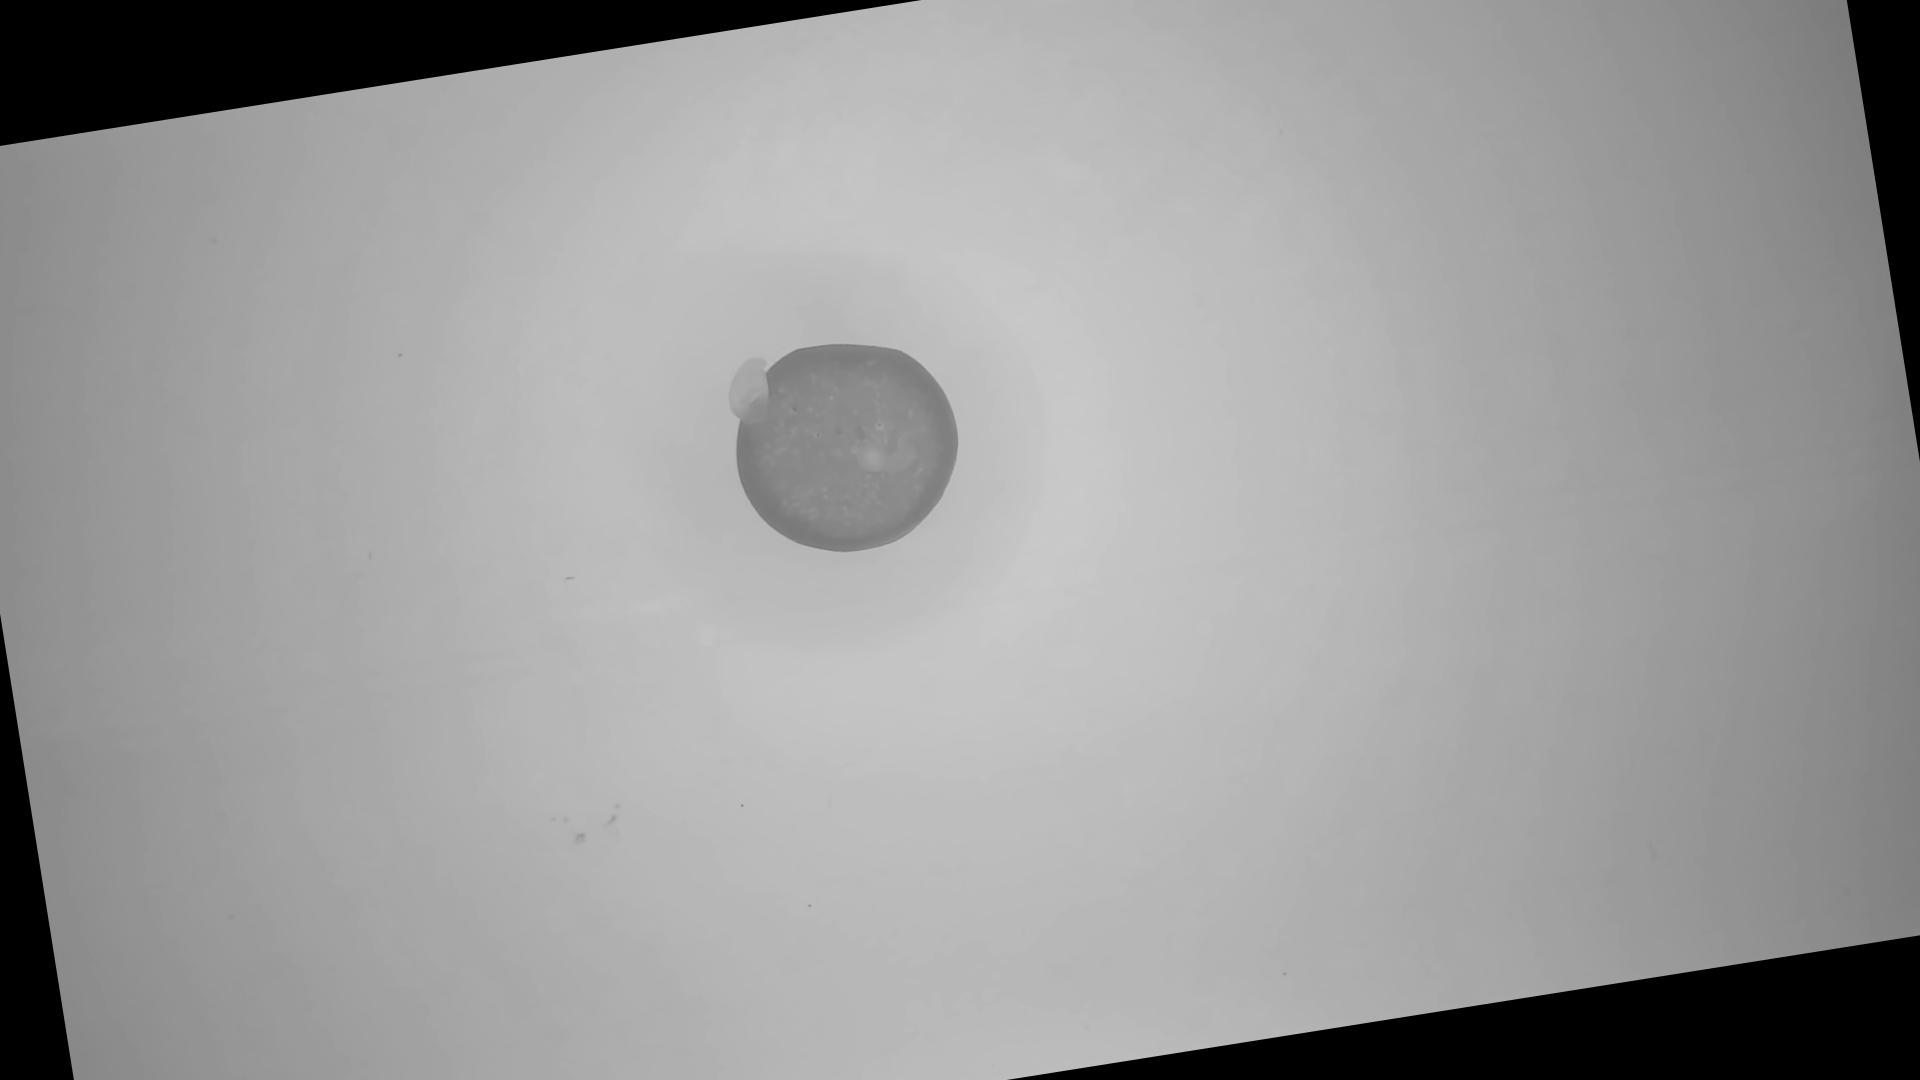abnormal: (713, 316, 981, 572)
